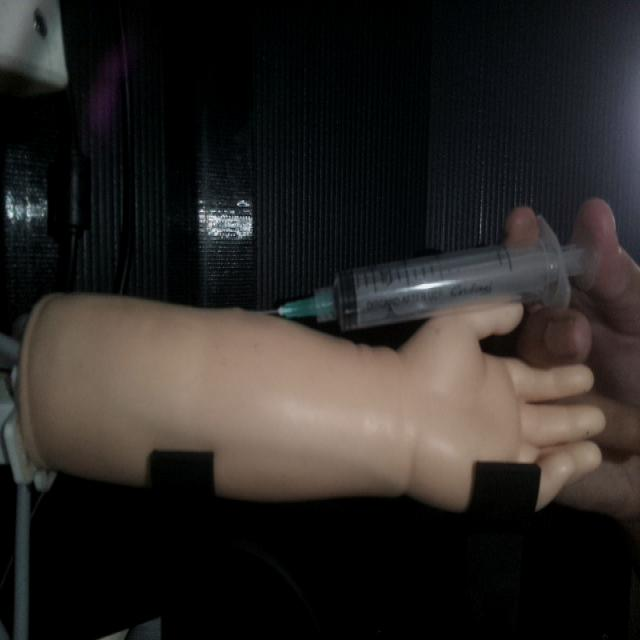Below 15 degrees: (262, 230, 599, 334)
